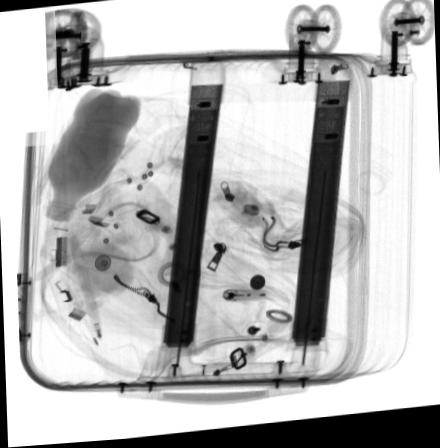Lighter: (221, 293, 266, 304)
